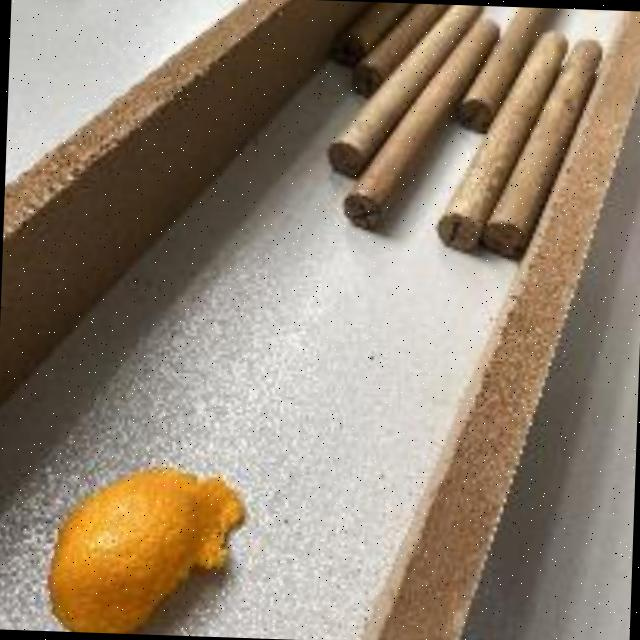orange-peel: (42, 458, 248, 636)
